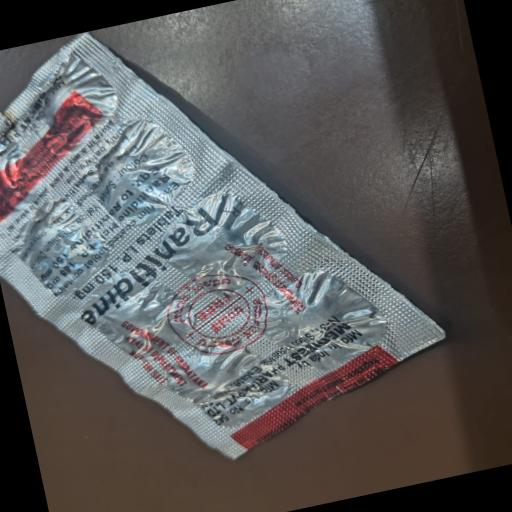medicine: (0, 0, 458, 498)
ranitidine: (38, 190, 250, 332)
